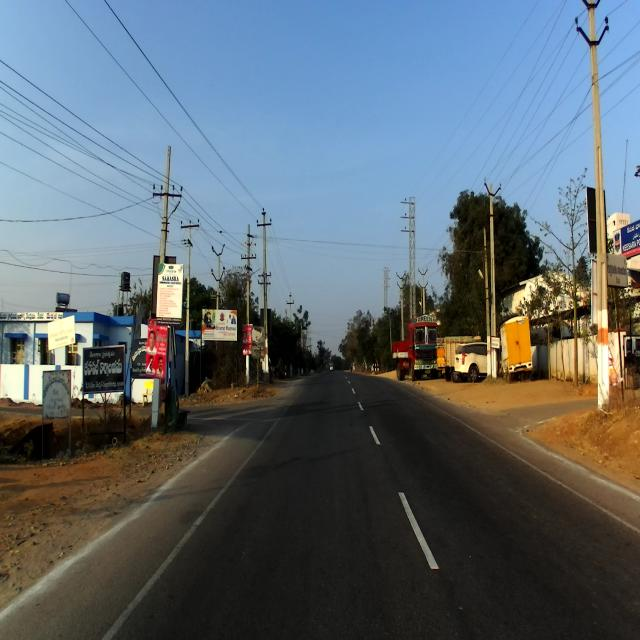electric pole ahead at: (572, 0, 623, 416), (145, 143, 188, 422)
